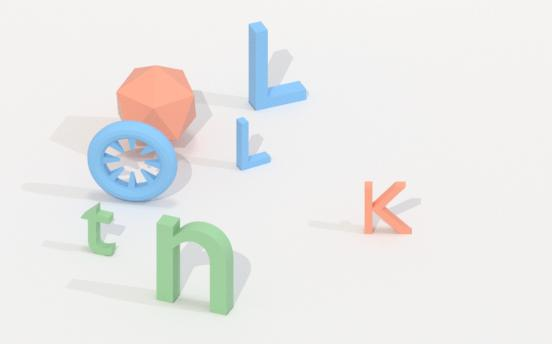dagiac: (112, 63, 199, 142)
k: (363, 178, 415, 237)
l: (243, 16, 314, 112), (232, 113, 277, 172)
n: (151, 216, 244, 314)
t: (78, 201, 124, 258)
tron: (85, 123, 180, 201)
